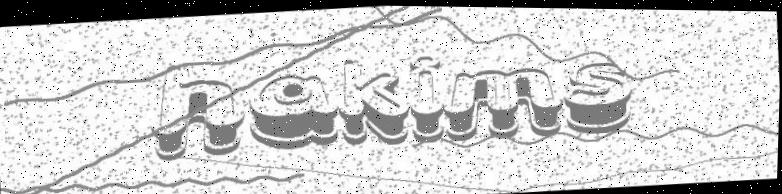a: (239, 65, 346, 151)
h: (149, 54, 250, 157)
i: (402, 49, 454, 149)
k: (337, 50, 411, 153)
m: (440, 62, 566, 145)
s: (562, 54, 639, 137)
